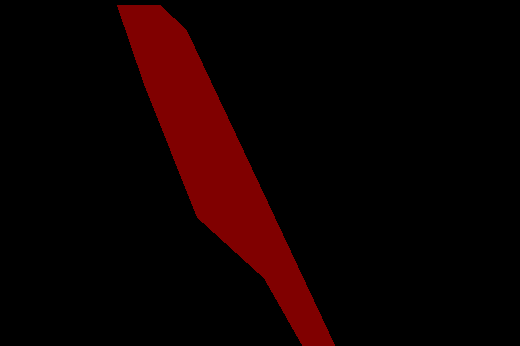fire: (117, 5, 336, 346)
